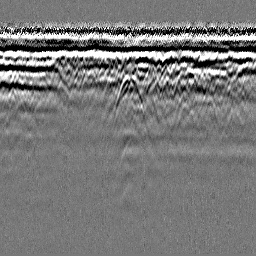cavity: (113, 73, 145, 113)
